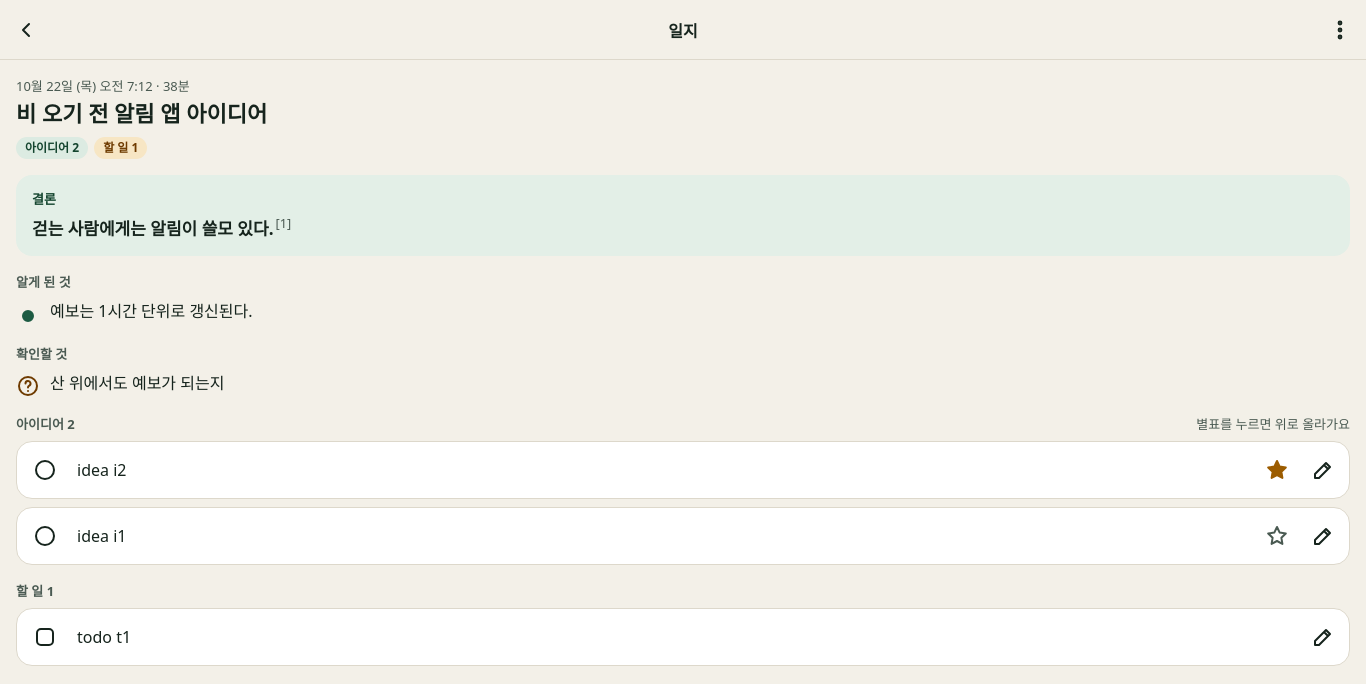
JournalDetailScreen 노트·제목·삭제 › 빈 내용은 저장할 수 없다
Click the button named "아이디어 수정" in the row of "idea i1" at (1323, 536), box [1301, 514, 1345, 558]
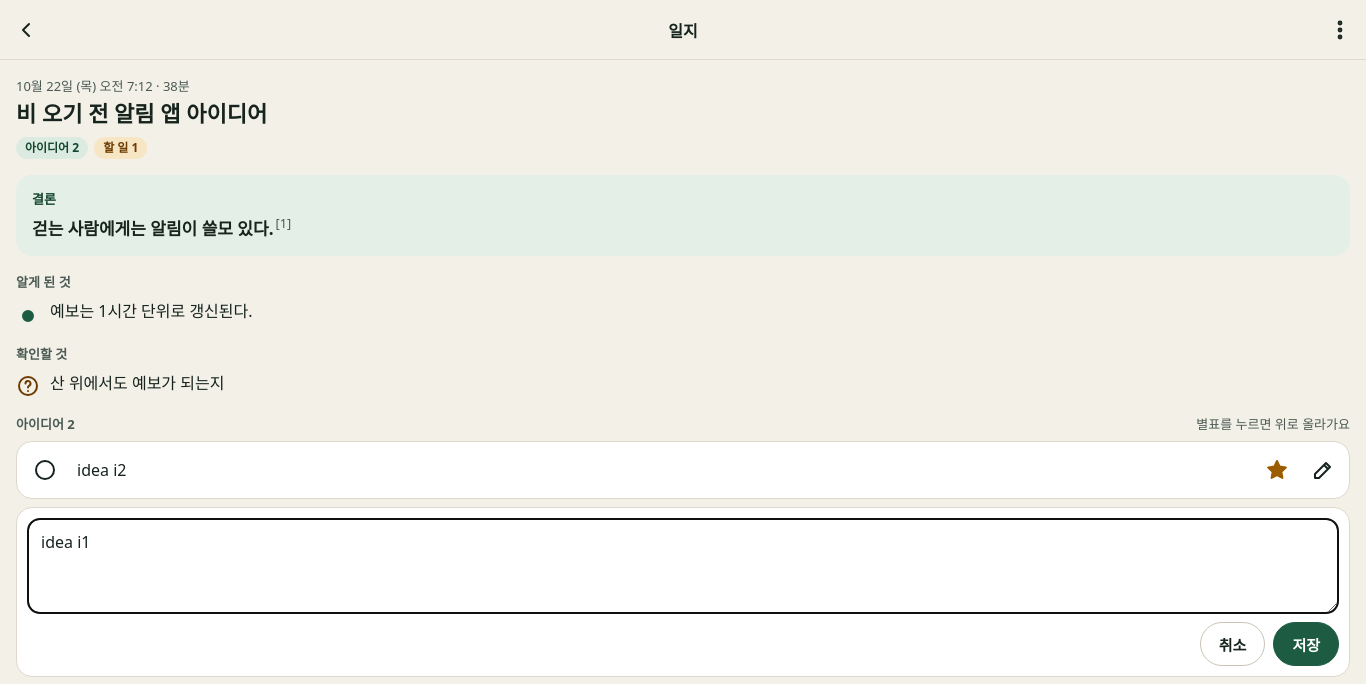
Clear the text box named "아이디어 내용" at (683, 566), box [27, 518, 1339, 614]
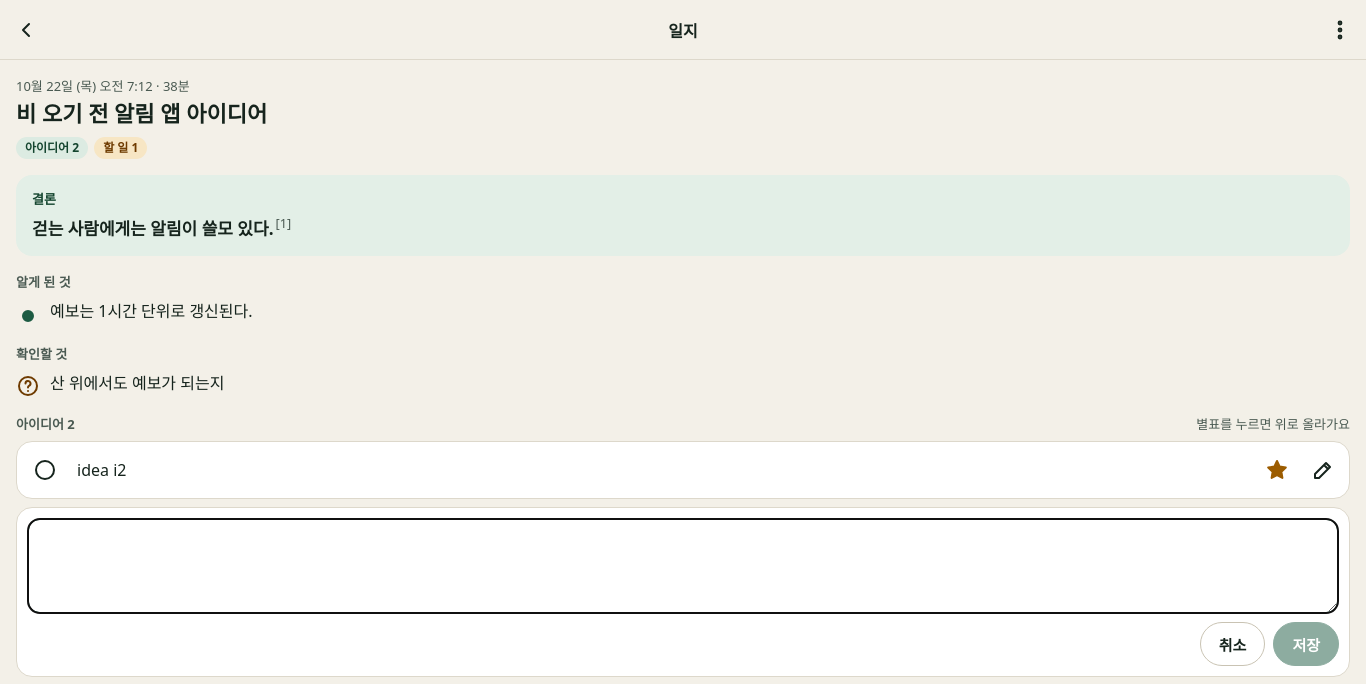
Expected: the button "저장" is disabled, [1273, 622, 1339, 666]
